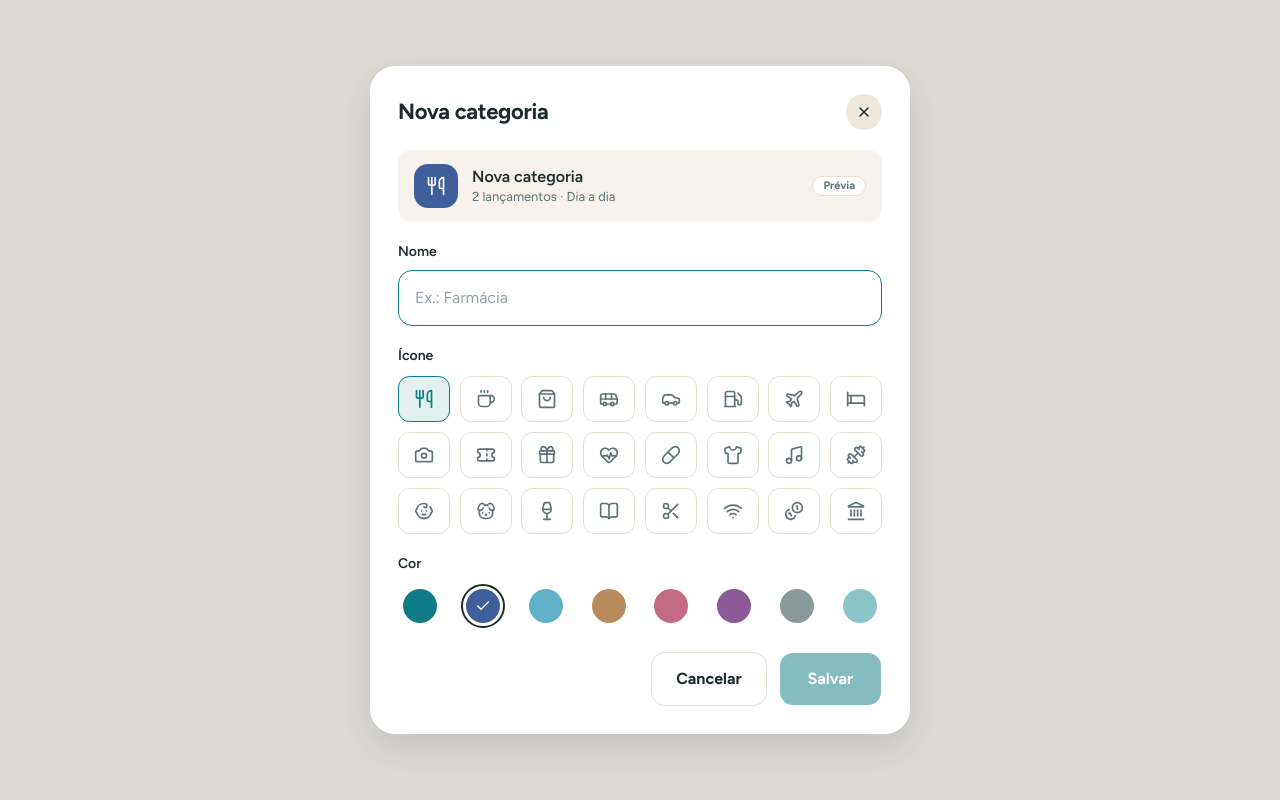
Test: CategoryFormDialog › updates the preview live and falls back to Nova categoria
Expected: the dialog shows "2 lançamentos · Dia a dia", [472, 189, 615, 204]
Expected: the dialog shows "Prévia", [824, 179, 855, 192]
Type "Farmácia" into the field labelled "Nome".
click(640, 298); type("Farmácia")  # box [398, 270, 882, 326]
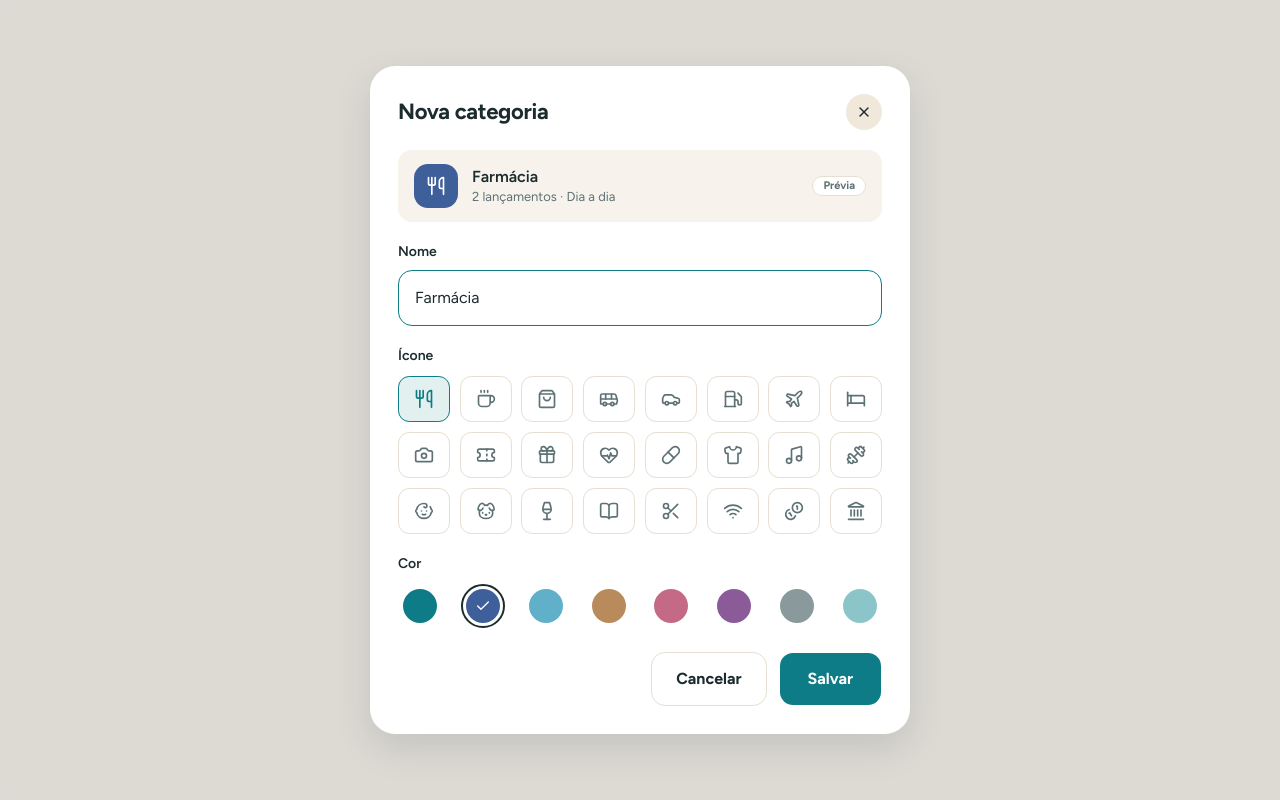
Expected: the text "Farmácia" is shown, [472, 167, 538, 186]
